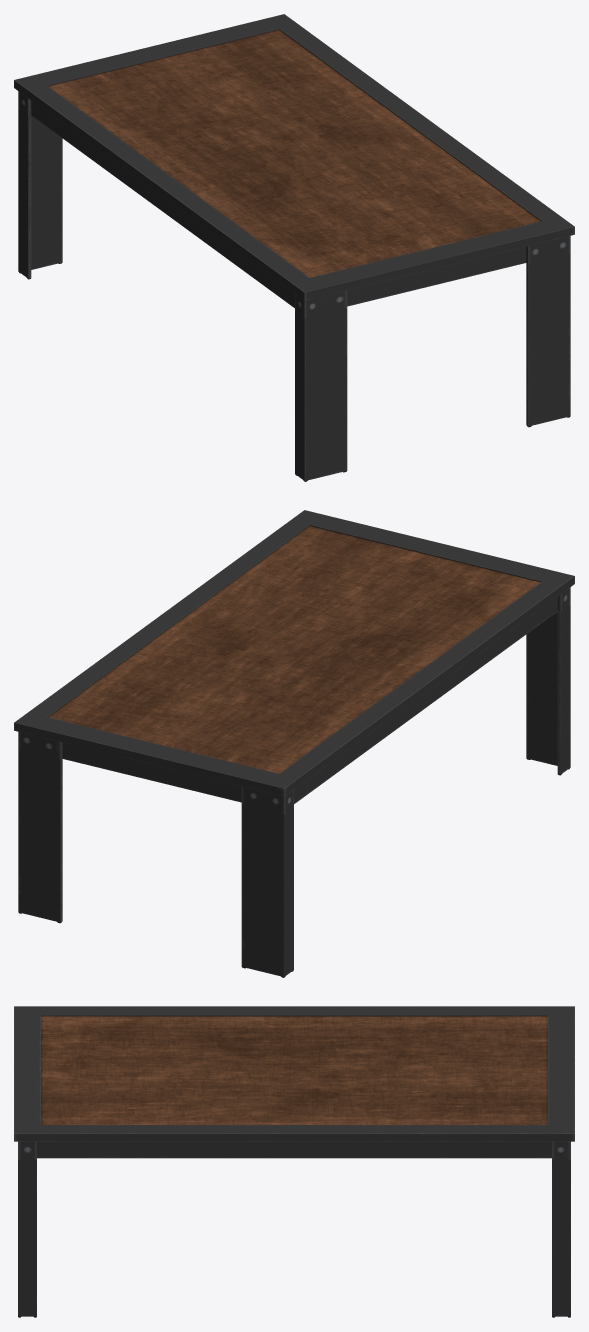
File: table.glb
3 views of the same model, one above another, from view 1: azimuth 30°, elevation 25°; view 2: azimuth 150°, elevation 25°; view 3: azimuth 270°, elevation 25° (orthographic). The views are drawn at different scales.
Visible parts, largest first — view 1: table; view 2: table; view 3: table.
Part boxes in pixels (bbox=[...]): table: bbox=[14, 14, 574, 481]; table: bbox=[14, 510, 574, 977]; table: bbox=[14, 1006, 574, 1317].
Size of the model in its own units: 2.21 by 1.49 by 4.11.
1 material, 1 textured.
